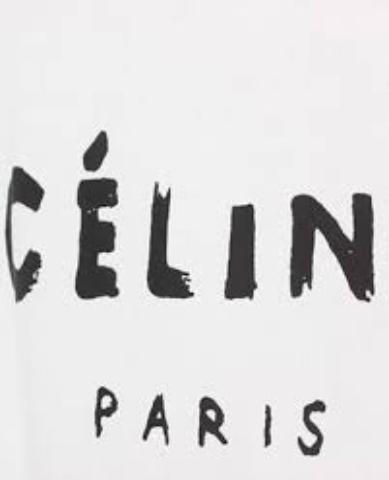CELINE: (1, 114, 389, 315)
